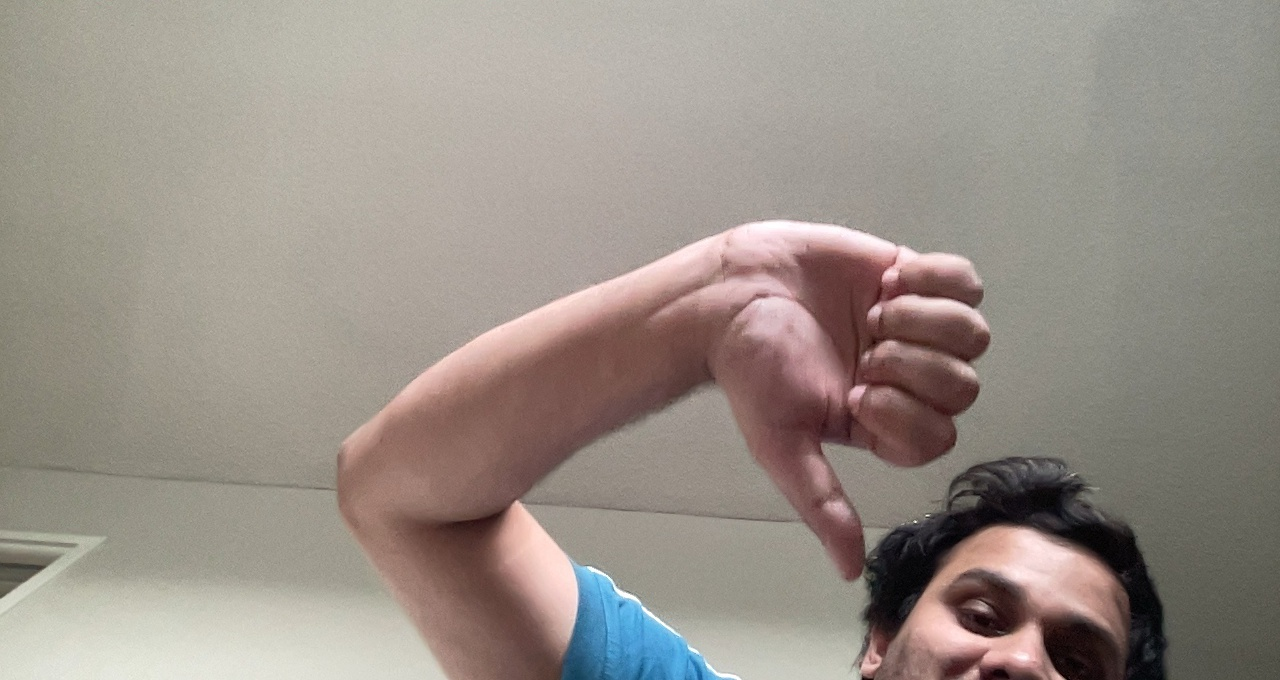thumbsdown: (712, 206, 991, 605)
